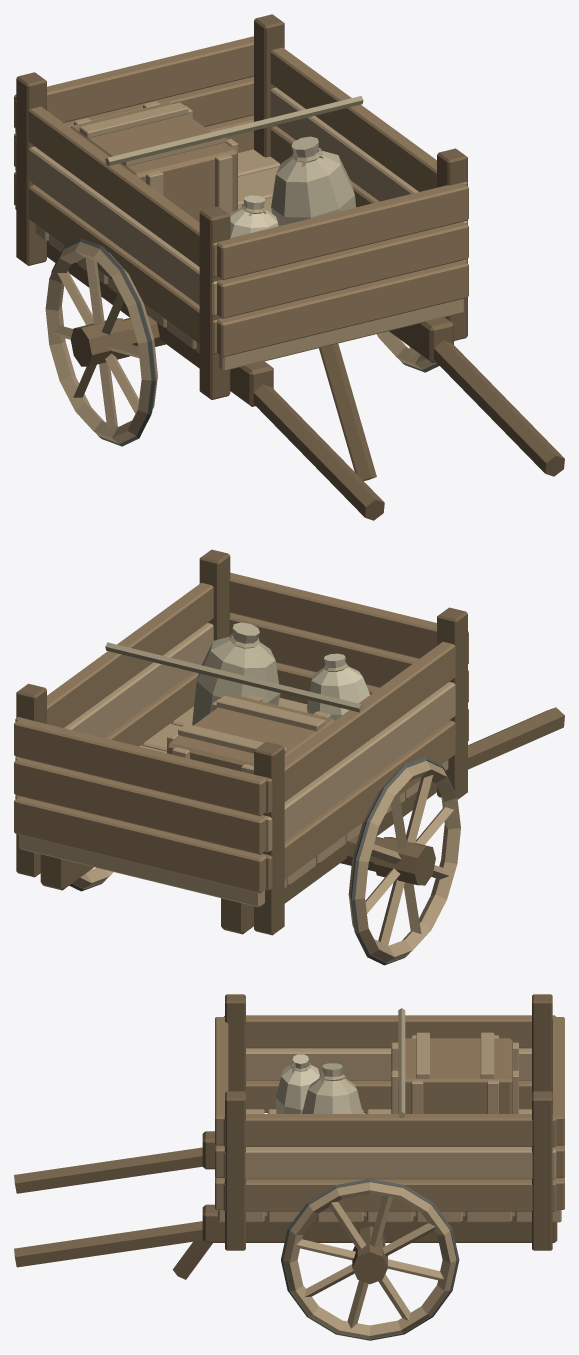
The model's file is baggage_cart.glb.
3 views of the same model, one above another, from view 1: azimuth 30°, elevation 25°; view 2: azimuth 150°, elevation 25°; view 3: azimuth 270°, elevation 25° (orthographic). The views are drawn at different scales.
Parts seen in each view (by area): view 1: baggage_cart_oak, baggage_cart_oak_light, baggage_cart_oak_dark, baggage_cart_camp_sack, baggage_cart_camp_rope, baggage_cart_camp_iron, baggage_cart_camp_sack_light; view 2: baggage_cart_oak, baggage_cart_oak_light, baggage_cart_oak_dark, baggage_cart_camp_sack, baggage_cart_camp_rope, baggage_cart_camp_sack_light, baggage_cart_camp_iron; view 3: baggage_cart_oak, baggage_cart_oak_light, baggage_cart_oak_dark, baggage_cart_camp_sack, baggage_cart_camp_sack_light, baggage_cart_camp_iron, baggage_cart_camp_rope.
Part boxes in pixels (box(x1,y1,x2,y2)): baggage_cart_oak: box(14, 36, 468, 357); baggage_cart_oak_light: box(15, 87, 467, 443); baggage_cart_oak_dark: box(16, 14, 564, 520); baggage_cart_camp_sack: box(271, 136, 355, 226); baggage_cart_camp_rope: box(105, 96, 363, 215); baggage_cart_camp_iron: box(51, 238, 454, 446); baggage_cart_camp_sack_light: box(229, 195, 278, 237); baggage_cart_oak: box(14, 572, 468, 893); baggage_cart_oak_light: box(15, 623, 460, 962); baggage_cart_oak_dark: box(16, 549, 564, 935); baggage_cart_camp_sack: box(192, 622, 280, 725); baggage_cart_camp_rope: box(105, 633, 363, 712); baggage_cart_camp_sack_light: box(307, 653, 369, 720); baggage_cart_camp_iron: box(69, 757, 455, 965); baggage_cart_oak: box(215, 1015, 564, 1211); baggage_cart_oak_light: box(218, 1032, 561, 1338); baggage_cart_oak_dark: box(14, 994, 557, 1284); baggage_cart_camp_sack: box(302, 1063, 362, 1113); baggage_cart_camp_sack_light: box(275, 1054, 319, 1113); baggage_cart_camp_iron: box(281, 1179, 459, 1340); baggage_cart_camp_rope: box(290, 1008, 405, 1117).
Size of the model in its own units: 1.68 by 1.3 by 2.78.
